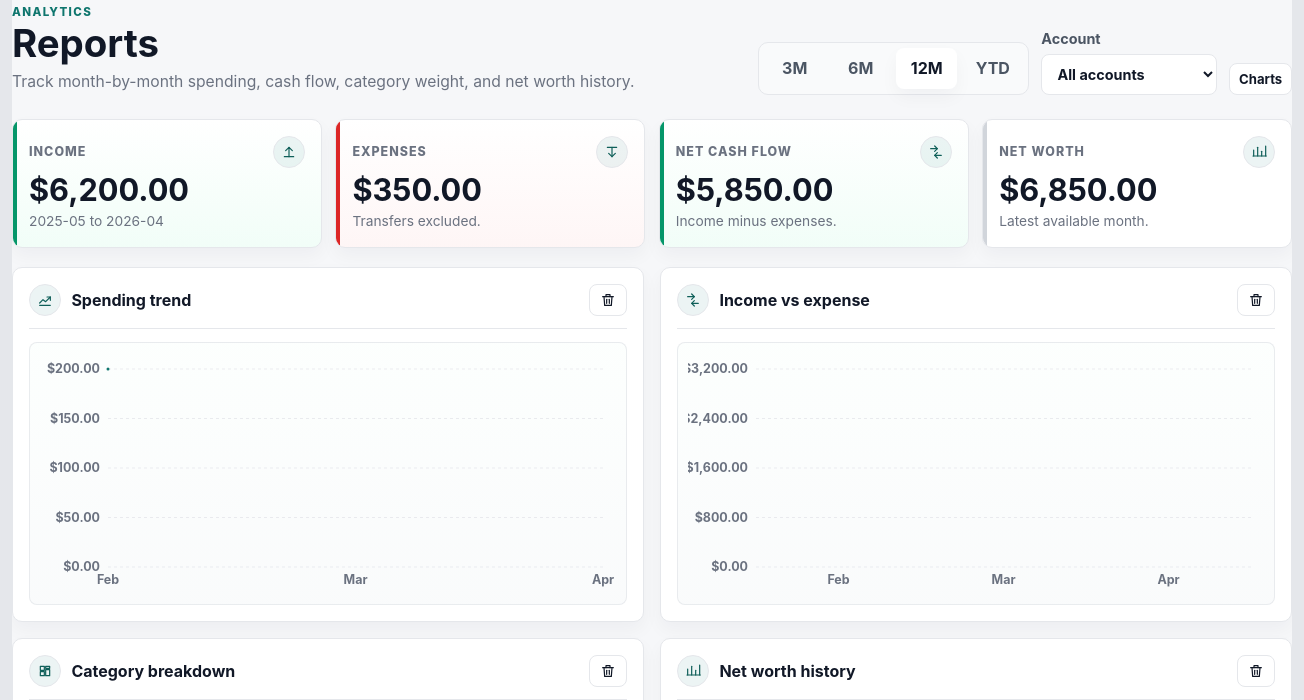
Test: ReportsPage › keeps chart customization usable when persistence fails
This screenshot has width=1304, height=700.
What coordinates should you click on to do the following:
click the button named "Remove Spending trend"
I would click on:
 (608, 300)
Its box is [589, 284, 627, 316].
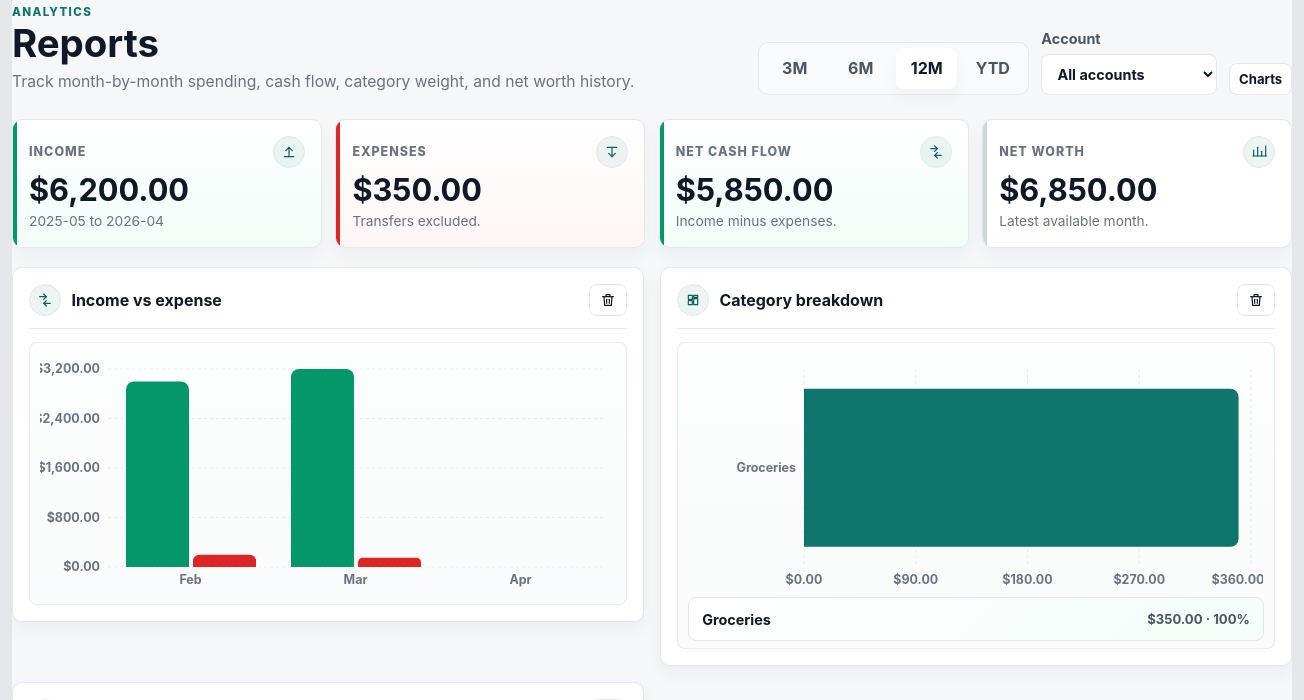
expect the heading "Spending trend" is gone: met
